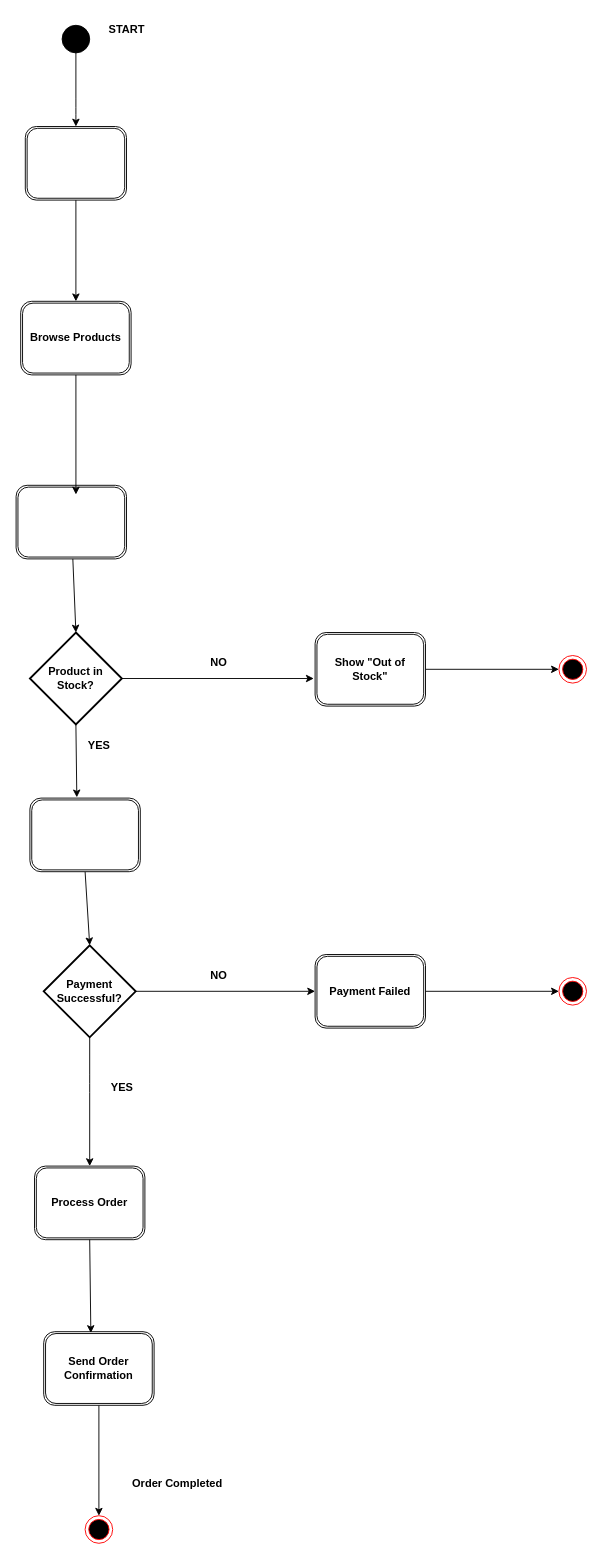
Image size: 603x1559. Some labels were removed from this diagram. Here are the shapes that lost their labels. From the top down, the centre of each, then its label:
At [75,163]: "User Logs In".
At [70,521]: "Add to Cart".
At [84,834]: "Enter Payment Details".
